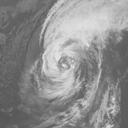cyclone: (40, 38, 87, 82)
